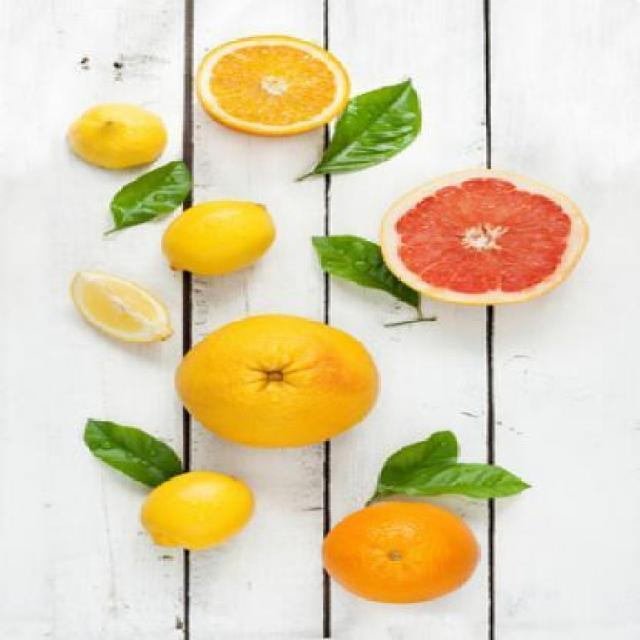Jeruk Sudah Matang: (169, 313, 388, 455), (316, 500, 482, 606)
